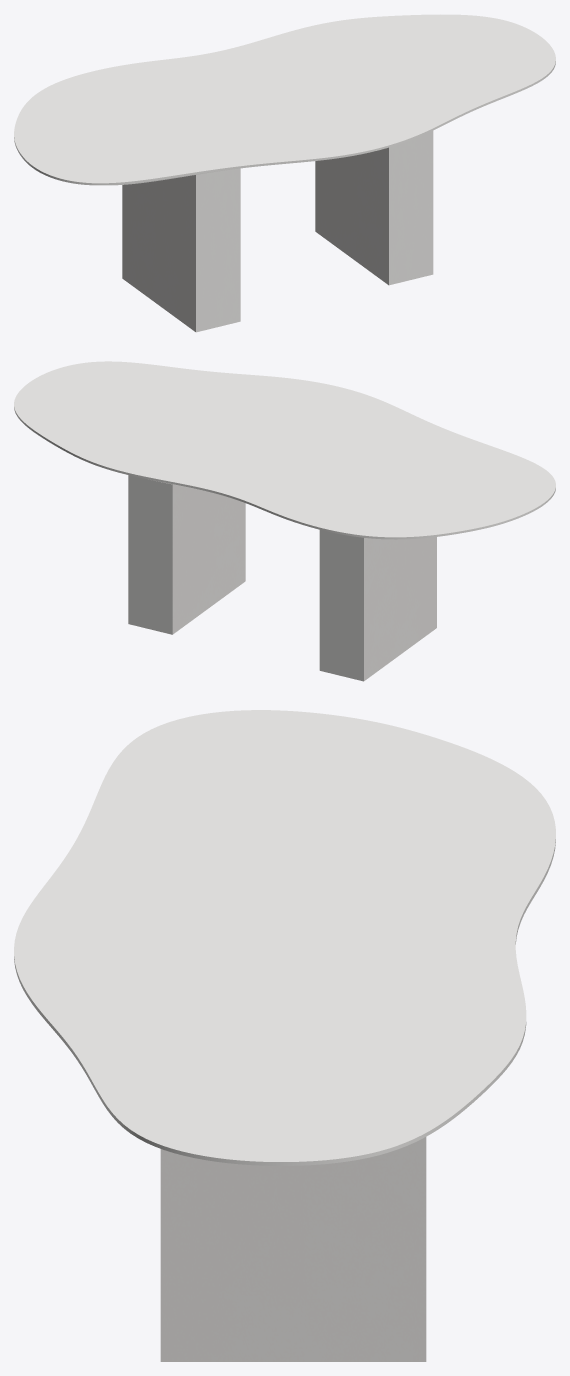
File: purewhite_toplast_facet_ridge.glb
The picture shows the model from 3 angles, top to bottom: view 1: azimuth 30°, elevation 25°; view 2: azimuth 150°, elevation 25°; view 3: azimuth 270°, elevation 25°; orthographic projection. The views are drawn at different scales.
Parts seen in each view (by area): view 1: facet_toplast, ridge; view 2: facet_toplast, ridge; view 3: facet_toplast, ridge.
Part boxes in pixels (x1=…): facet_toplast: x1=14, y1=14, x2=555, y2=185; ridge: x1=122, y1=131, x2=433, y2=332; facet_toplast: x1=14, y1=361, x2=555, y2=539; ridge: x1=128, y1=475, x2=436, y2=681; facet_toplast: x1=14, y1=710, x2=555, y2=1165; ridge: x1=160, y1=1137, x2=426, y2=1361.
Bounding box in the file's own units: 7.5 × 2.5 × 3.8.
Materials: 1 (1 with a texture image).
